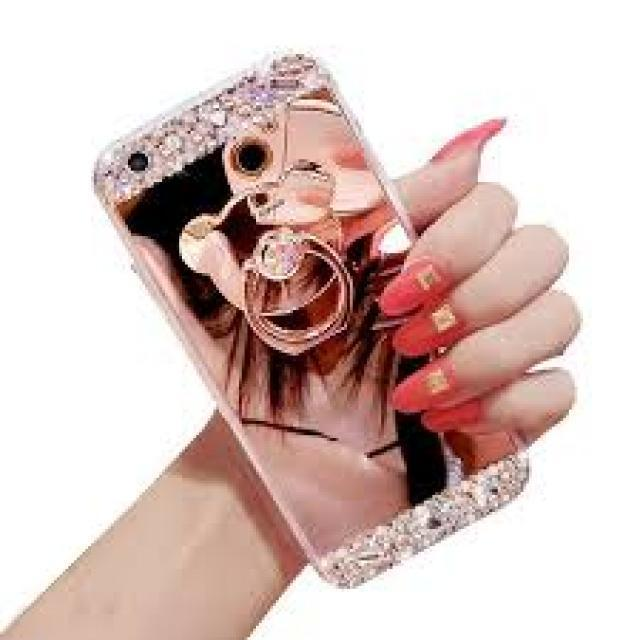Phone: (84, 57, 535, 595)
